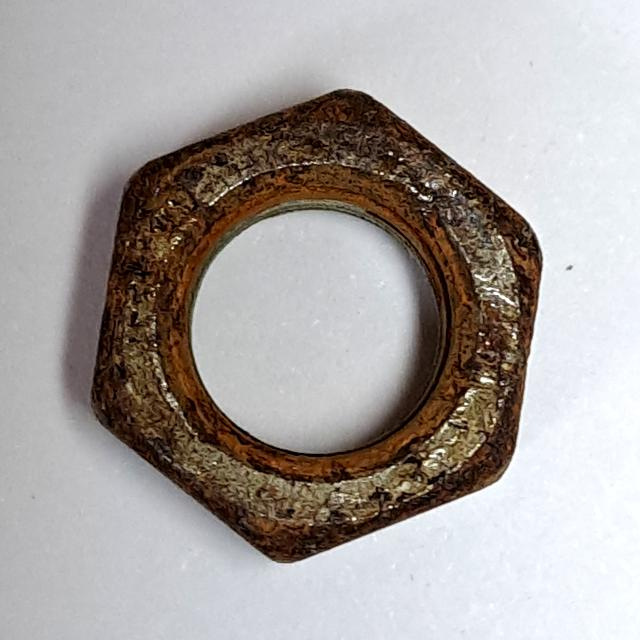Rust: (77, 79, 553, 579)
